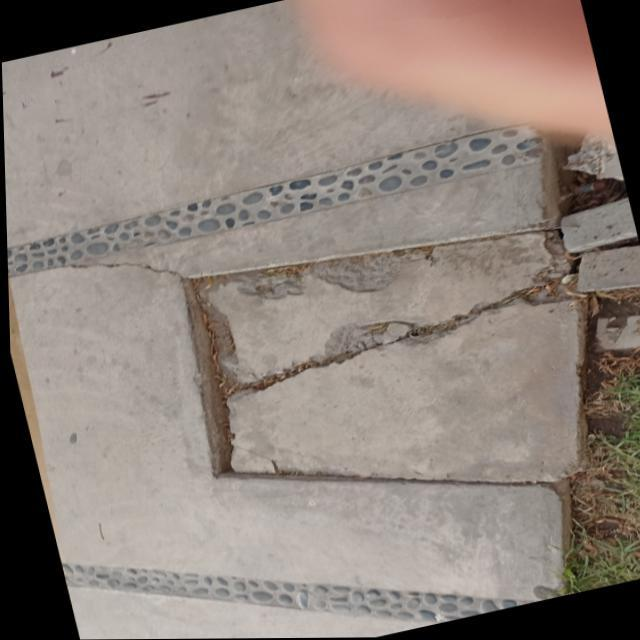hole: (187, 200, 590, 509), (527, 265, 640, 585)
